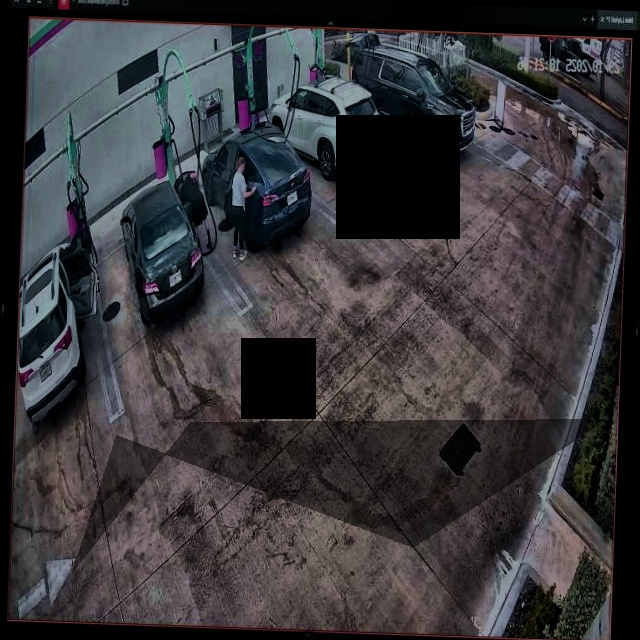Car: (199, 116, 312, 245), (350, 45, 477, 157), (118, 168, 205, 329), (266, 74, 382, 178)
